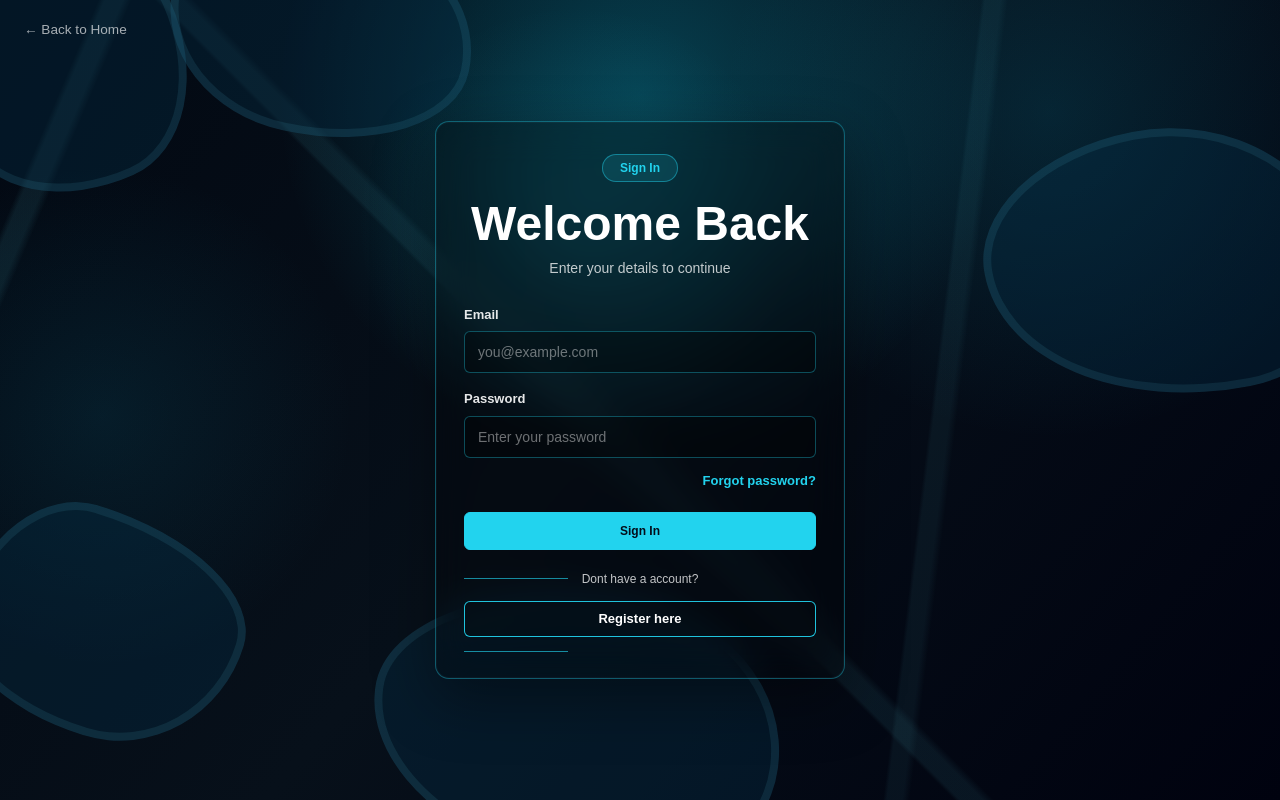
Test: LoginPage › shows an email validation error for invalid email format
Type "not-an-email" into the field with placeholder "you@example.com".
click(640, 352); type("not-an-email")  # box [464, 331, 816, 373]
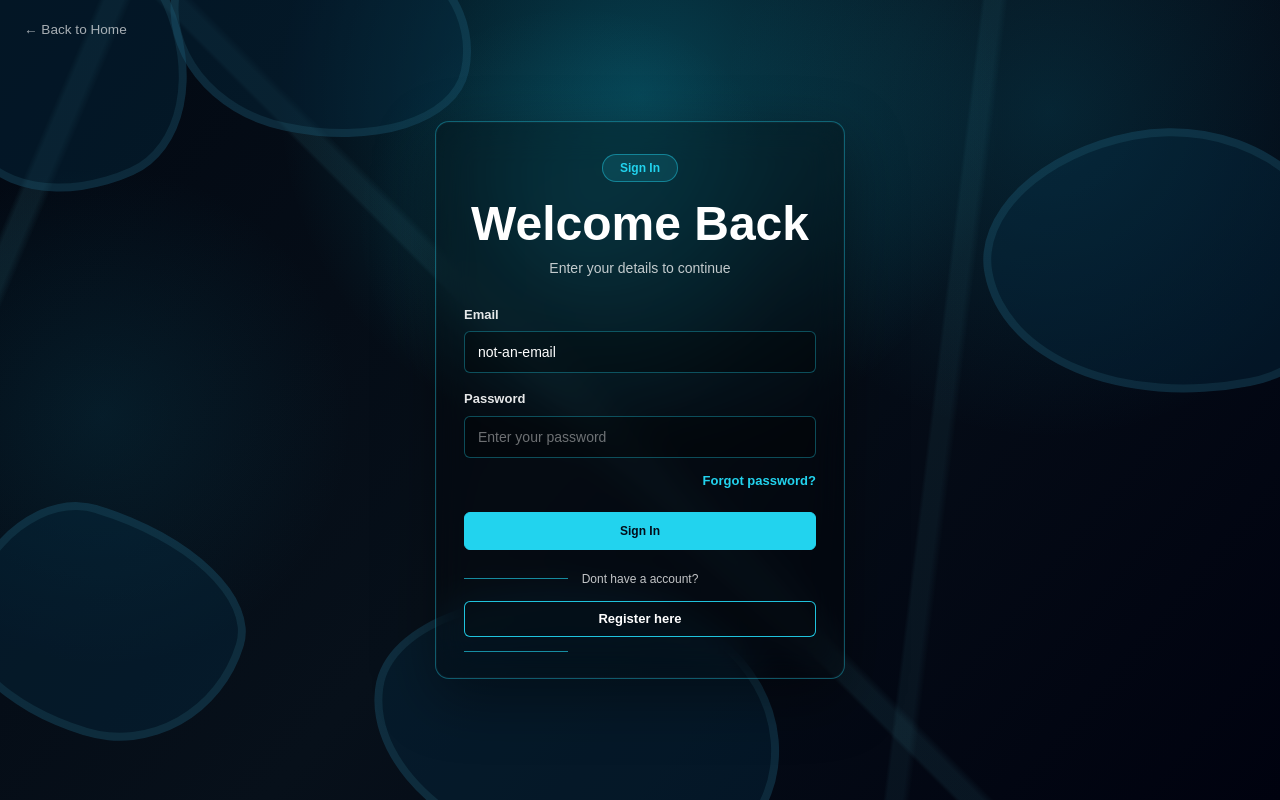
Type "abc123" into the password field with placeholder "Enter your password".
click(640, 437); type("abc123")  # box [464, 416, 816, 458]
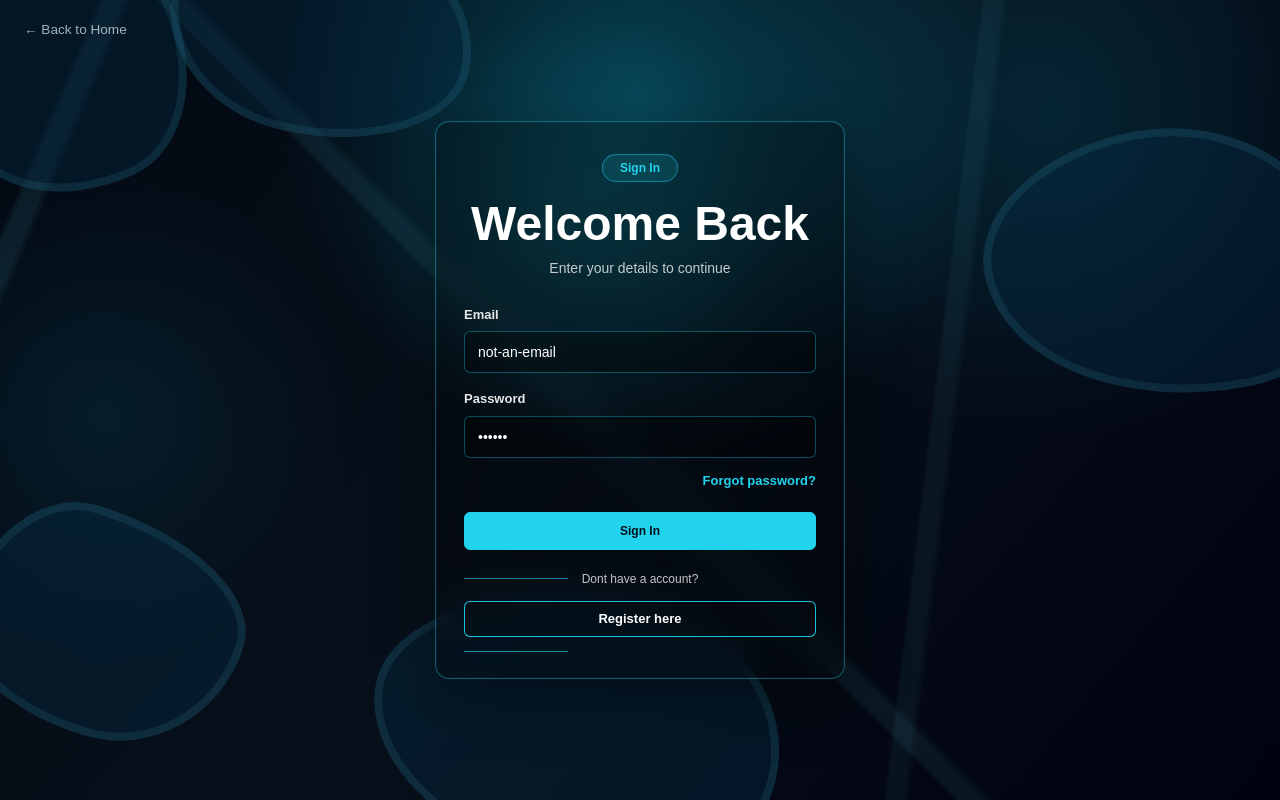
Submit the form "Email Password Forgot password? Sign In", box [464, 305, 816, 550]
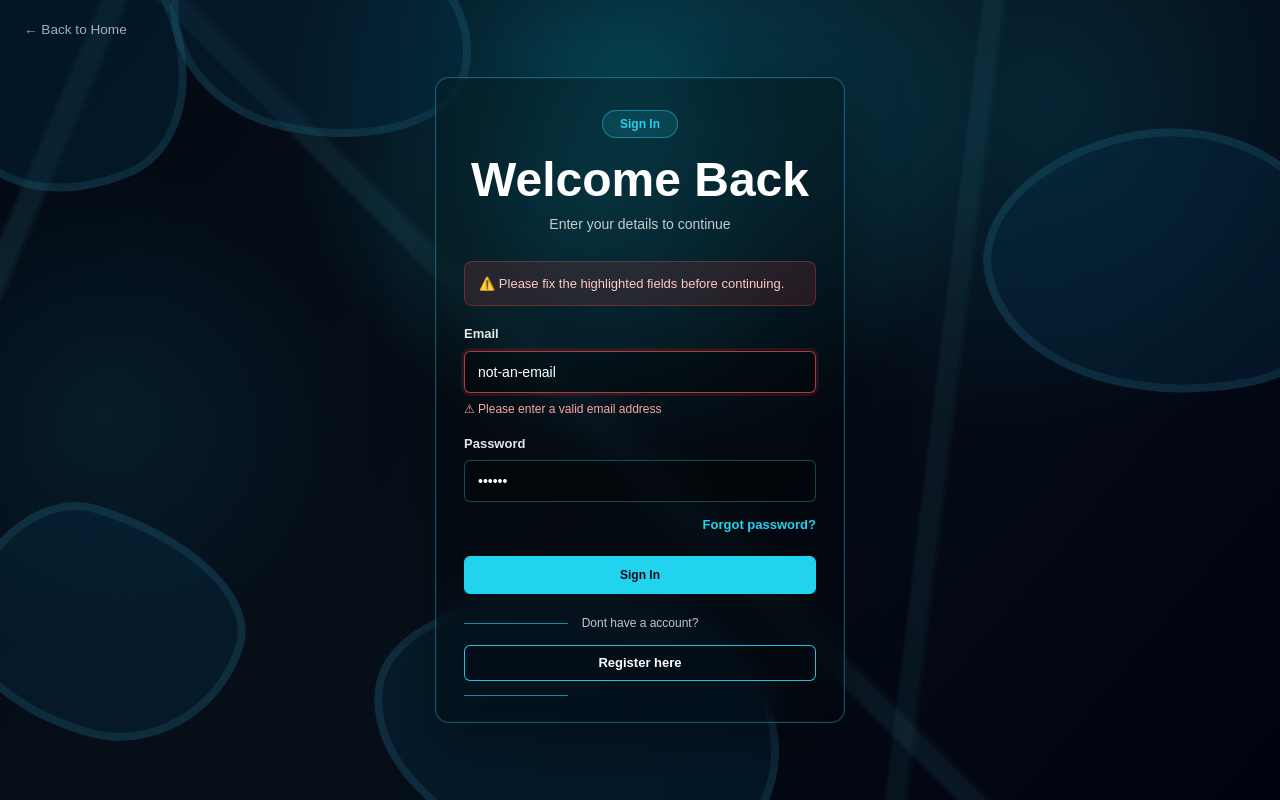
Check: the text "⚠ Please enter a valid email address" is shown, box [464, 402, 662, 416]
